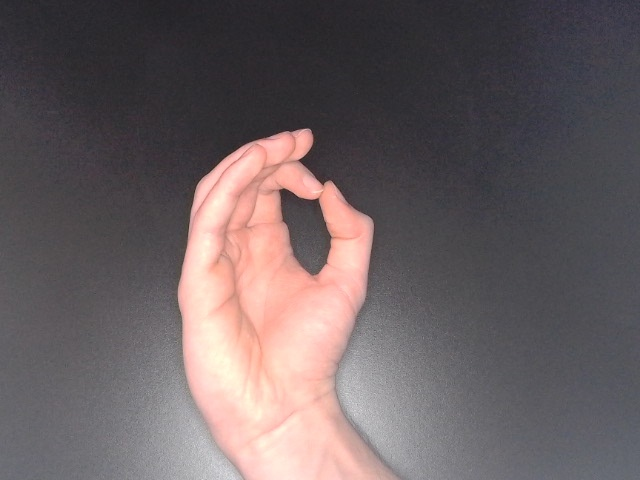o: (170, 124, 382, 464)
